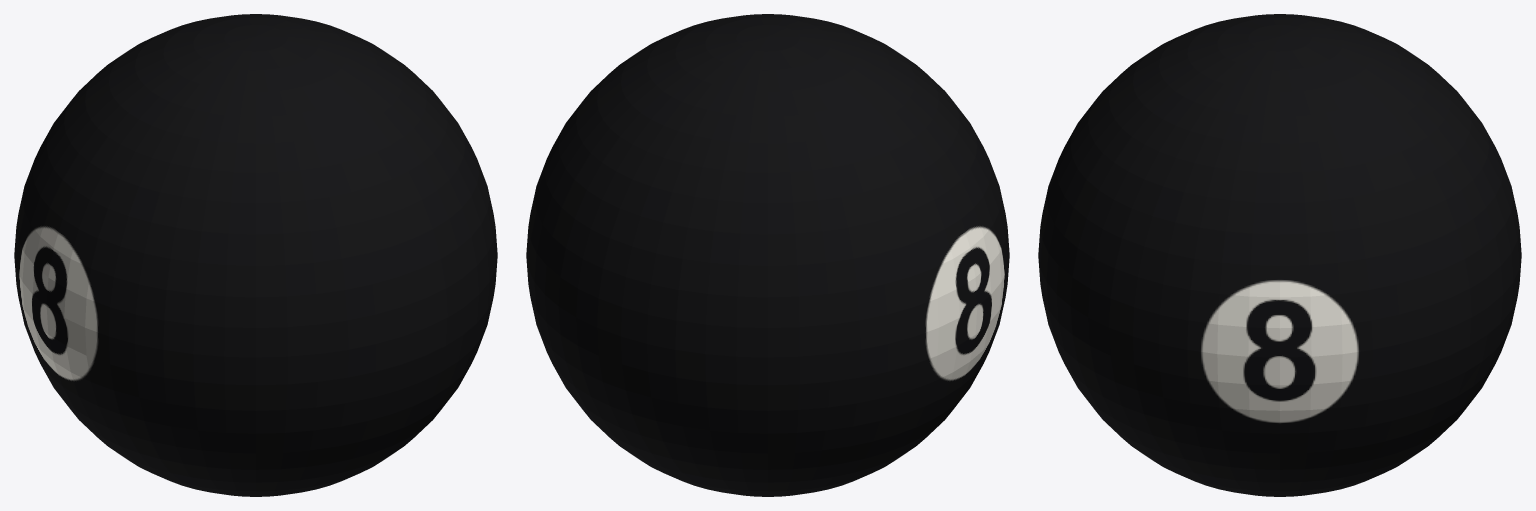
The model's file is ball_8.obj.
3 views of the same model, side by side, from view 1: azimuth 30°, elevation 25°; view 2: azimuth 150°, elevation 25°; view 3: azimuth 270°, elevation 25° (orthographic).
Size of the model in its own units: 0.0571 by 0.0571 by 0.0571.
Materials: 1 (1 with a texture image).
